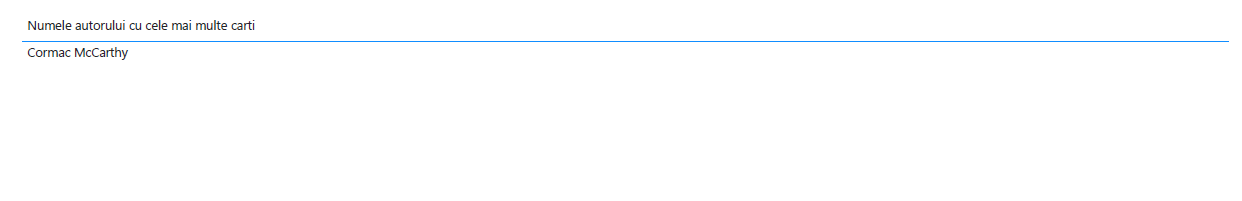

What the dashboard file says about the page in this screenshot:
{"tool":"powerbi","page":{"name":"Page 1","canvas":[1280,720],"ordinal":0},"visuals":[{"type":"tableEx","fields":{"Values":["Query3.NAME"]},"box":[5.1,0,1274.9,719.6],"z":0}]}

Visuals, with their boxes on the page's 1280x720 design canvas (x1, y1, x2, y2). These are canvas units, not pixel positions in the 1242x201 screenshot, which may show the page scaled, cropped or inside an application window:
tableEx - Query3.NAME: box(5, 0, 1280, 720)
